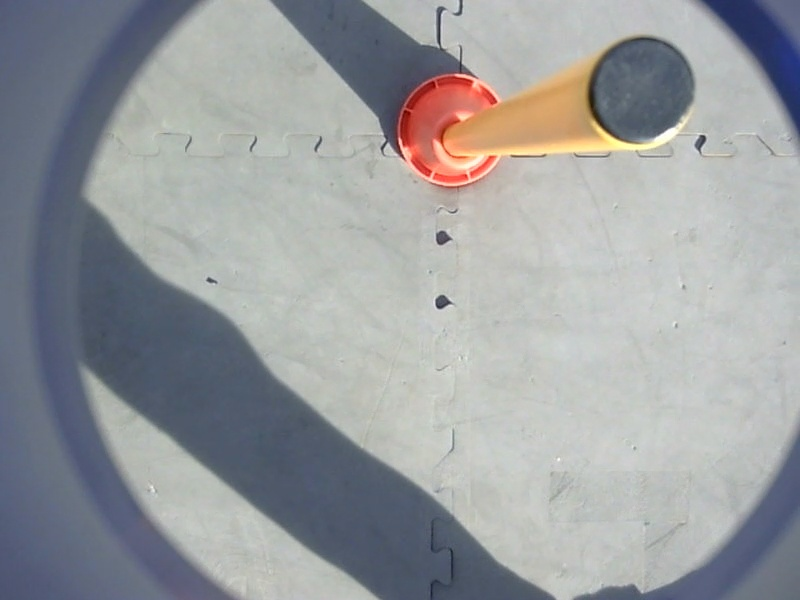tip: (579, 26, 704, 160)
